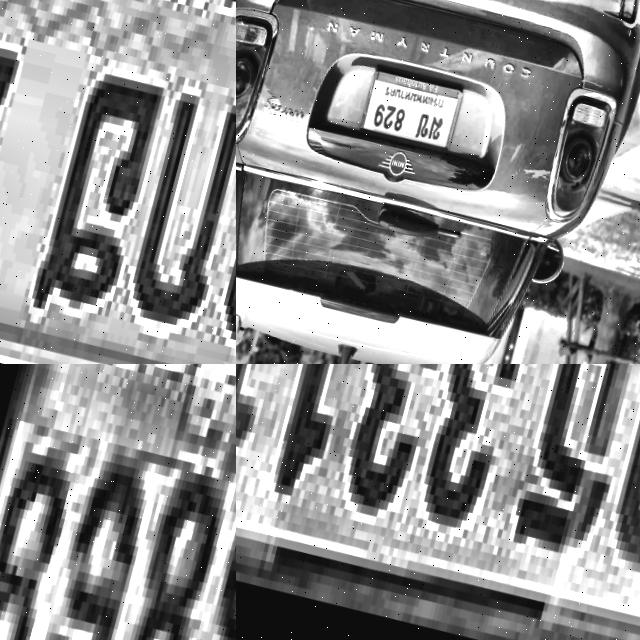license-plate: (236, 364, 640, 640), (0, 0, 236, 364), (0, 364, 236, 640), (355, 69, 464, 158)
